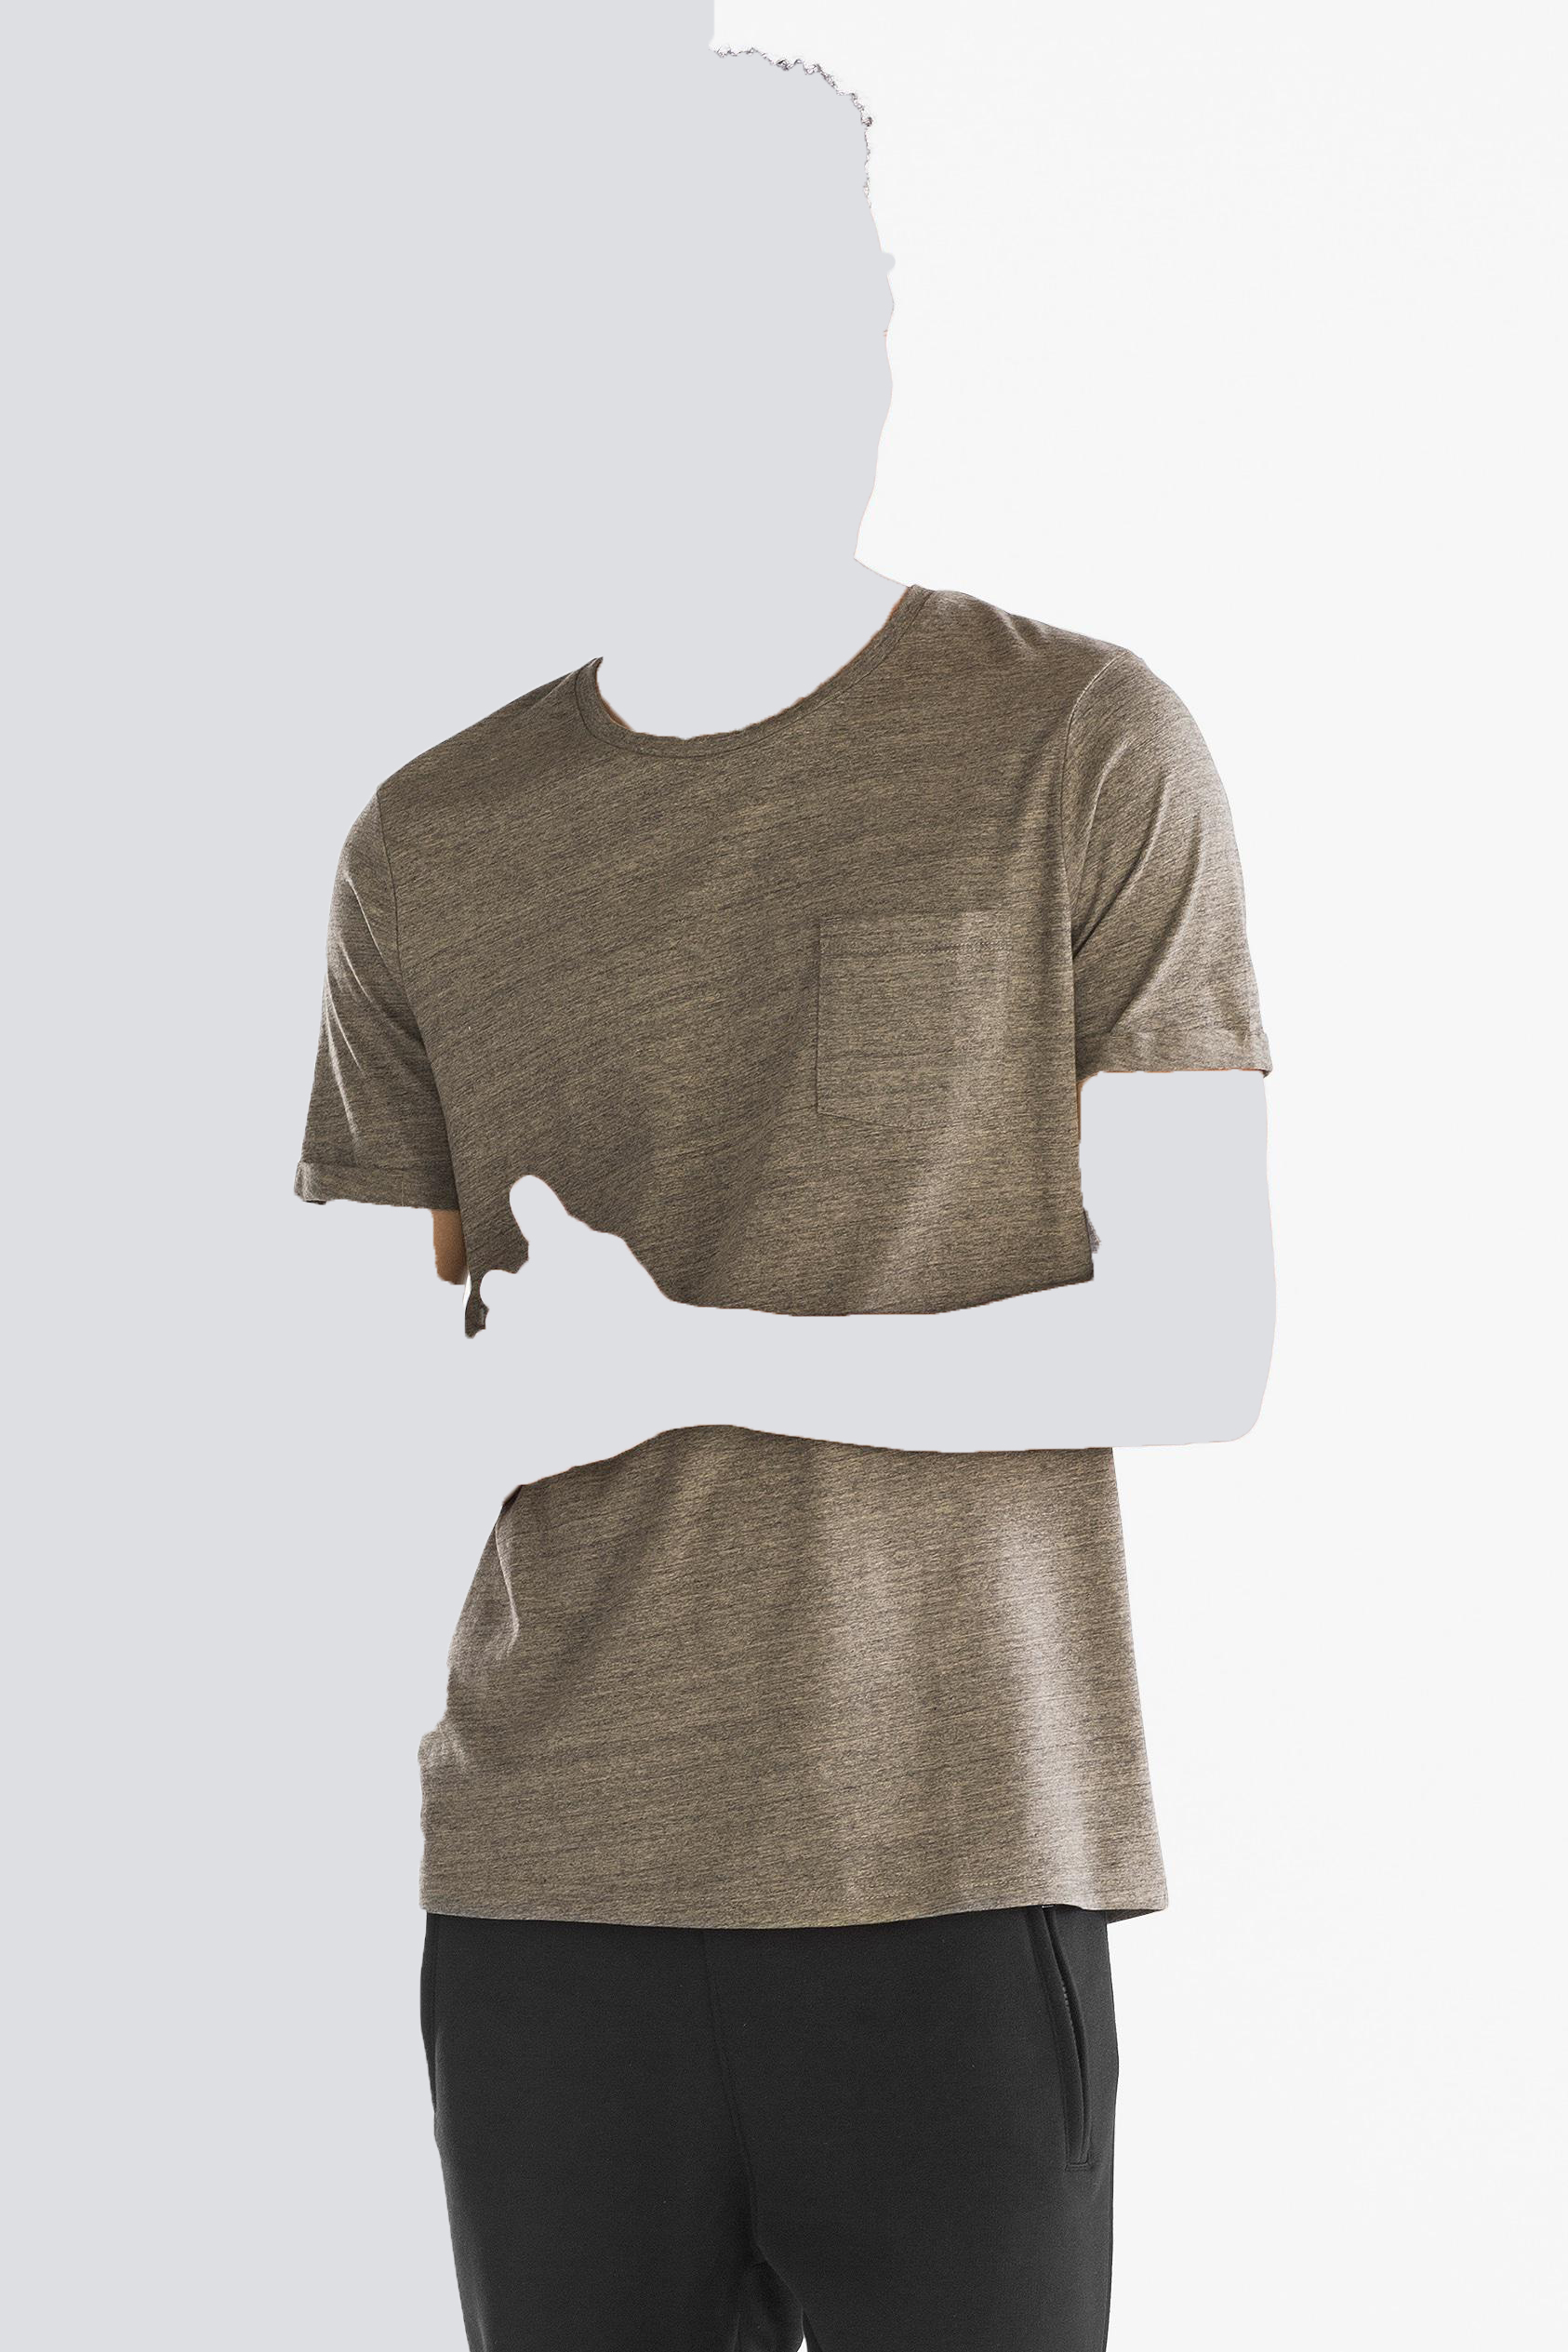teeshirt: (271, 588, 1304, 1941)
